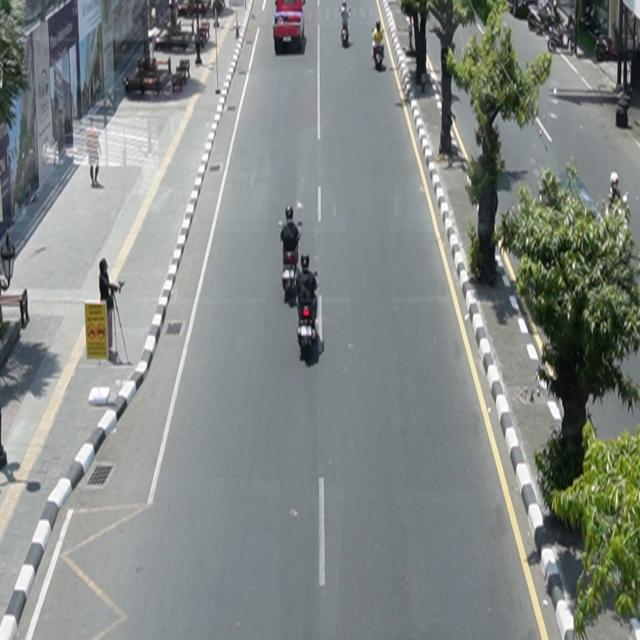car: (273, 1, 306, 54)
